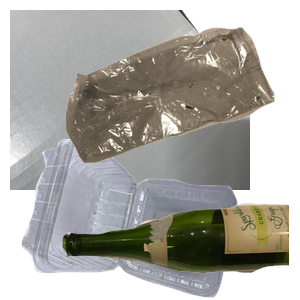cardboard: (10, 10, 250, 190)
glass: (60, 201, 300, 300)
plastic: (19, 139, 249, 300)
trash: (63, 24, 300, 179)
